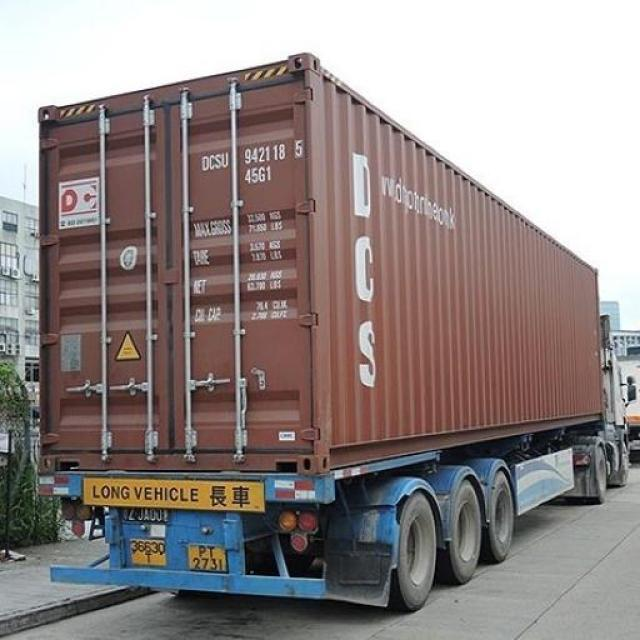ISO: (244, 166, 275, 184)
container_number: (198, 144, 304, 166)
